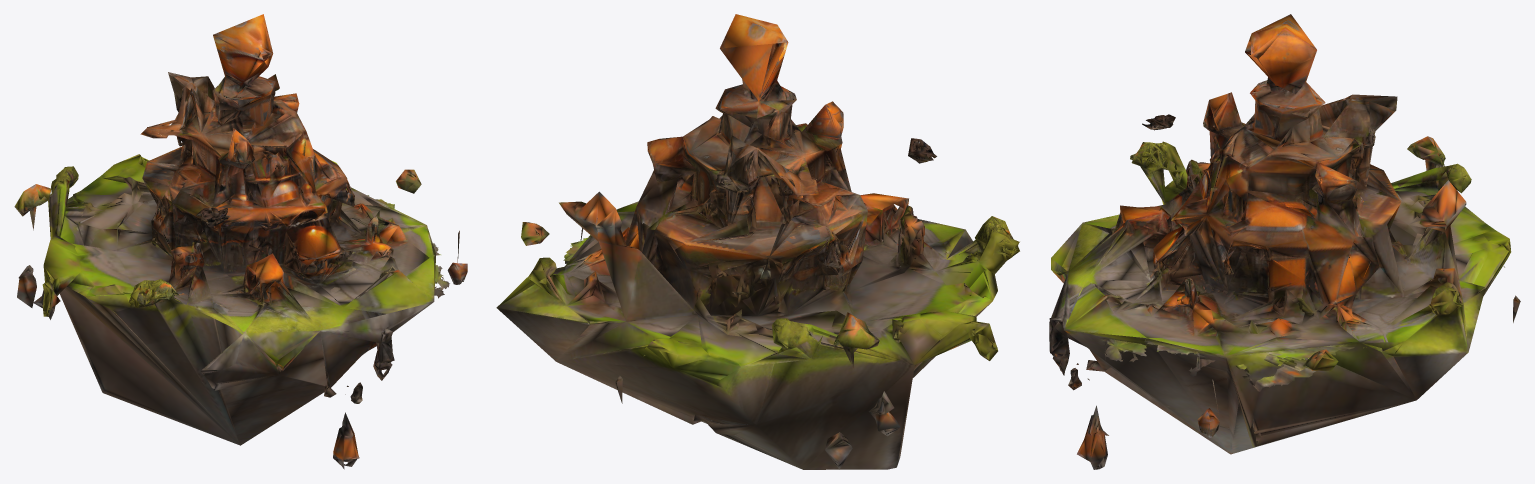
File: headquarters.glb
3 views of the same model, side by side, from view 1: azimuth 30°, elevation 25°; view 2: azimuth 150°, elevation 25°; view 3: azimuth 270°, elevation 25° (orthographic). The views are drawn at different scales.
Bounding box in the file's own units: 1.92 × 1.88 × 1.77.
1 material, 1 textured.
